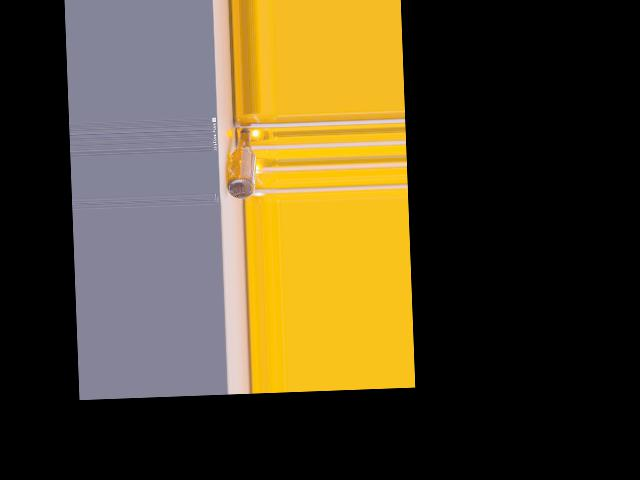beer: (223, 129, 257, 200)
